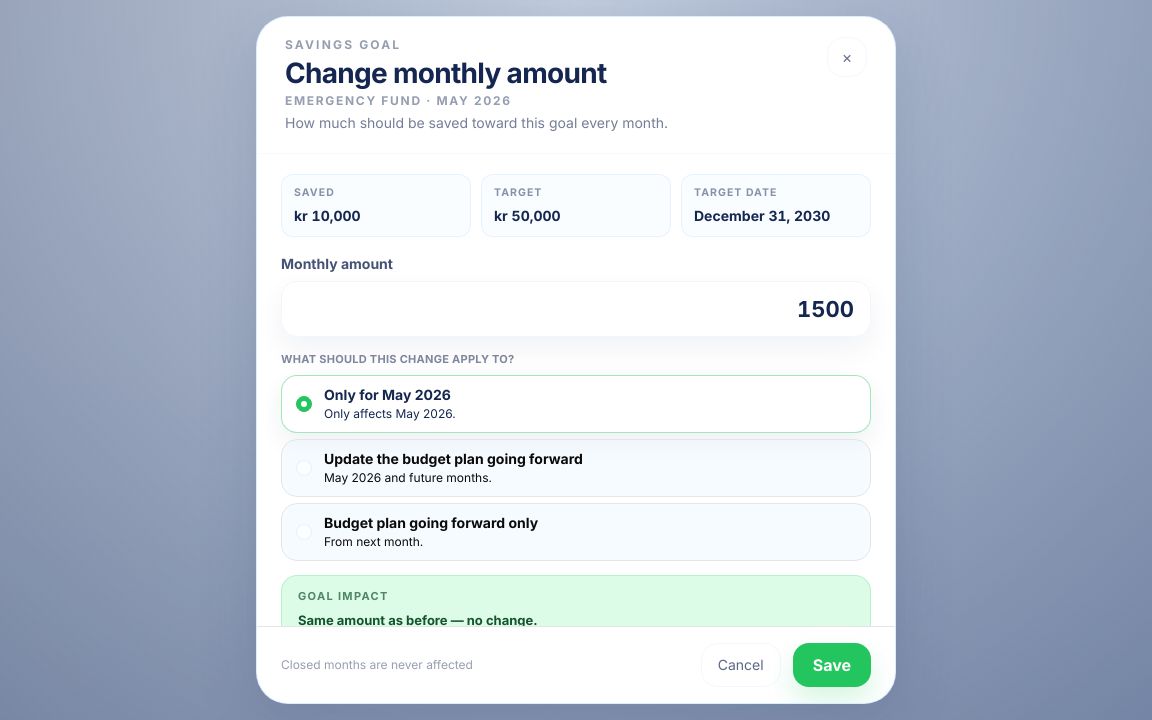
it: SavingsGoalMonthlyModal › shows the budget warning when an increase exceeds remaining room
Replace the text in the field labelled "Monthly amount" with "2000": (576, 309) [281,281,871,337]
(page scrolled)
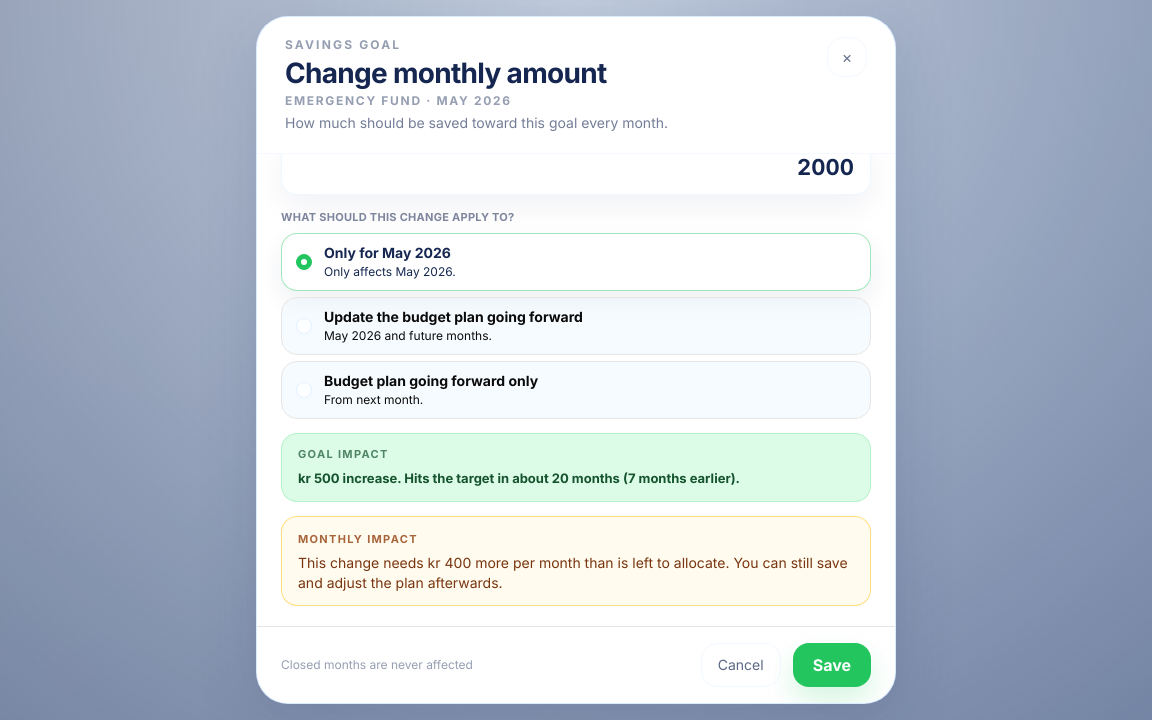
Result: the message with test id "savings-goal-budget-warning" shows "400" at [298,554,848,591]
